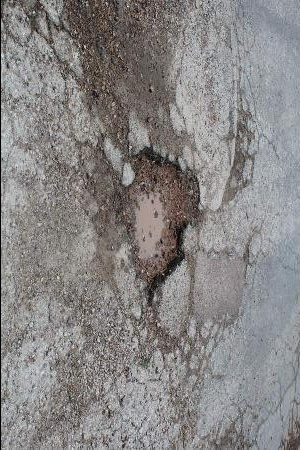pothole: (114, 141, 205, 304)
